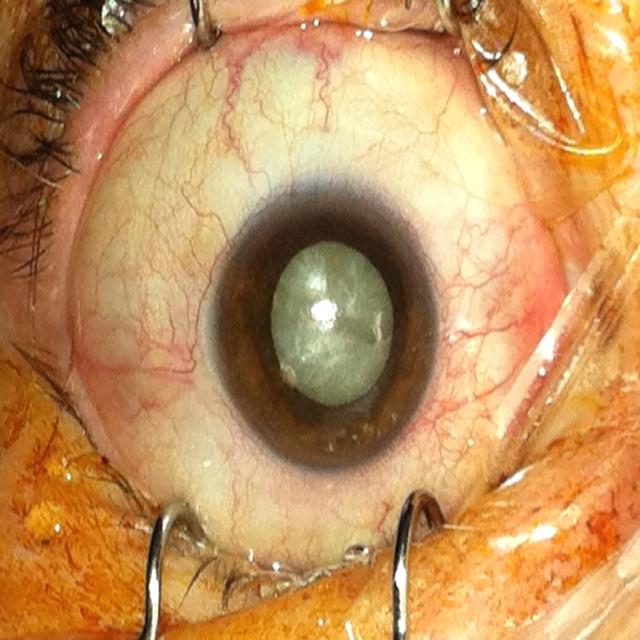Cataract: (43, 31, 586, 590)
